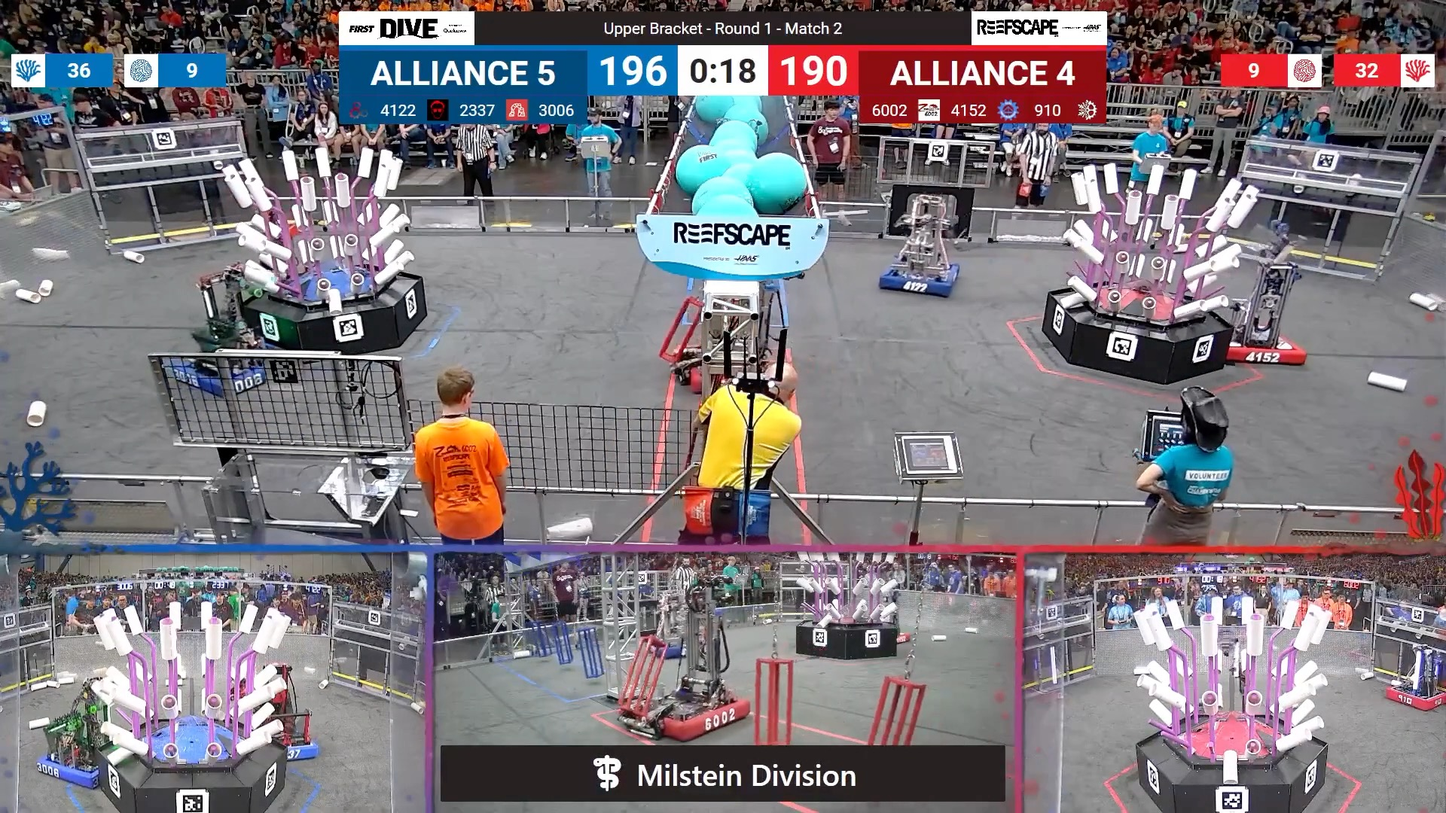bumpers: (612, 692, 749, 740), (161, 349, 287, 400), (1217, 321, 1313, 372), (33, 741, 133, 788), (872, 257, 969, 300), (267, 716, 324, 762), (1377, 681, 1445, 713)
